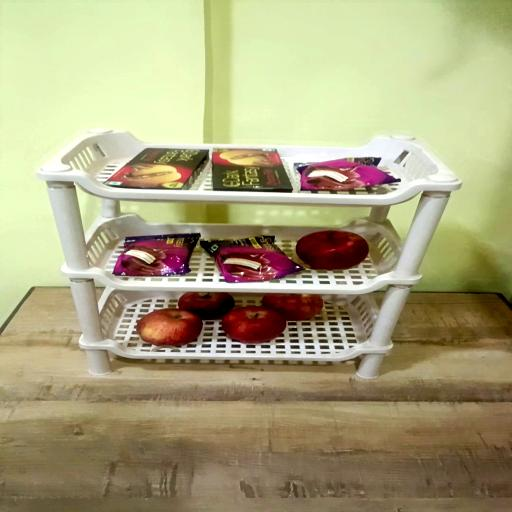Apple: (296, 231, 369, 271), (136, 308, 201, 346), (223, 307, 287, 344), (263, 294, 325, 321), (178, 292, 234, 320)
Choco Fills: (103, 146, 208, 189), (214, 147, 293, 190)
Choco Pie: (204, 238, 303, 284), (296, 159, 400, 195), (112, 235, 200, 277)
